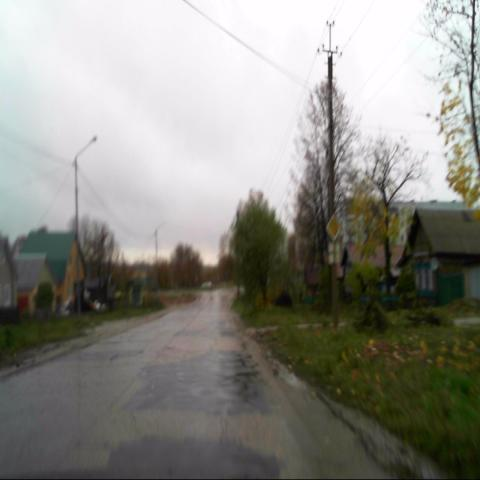8_13: (327, 241, 340, 264)
